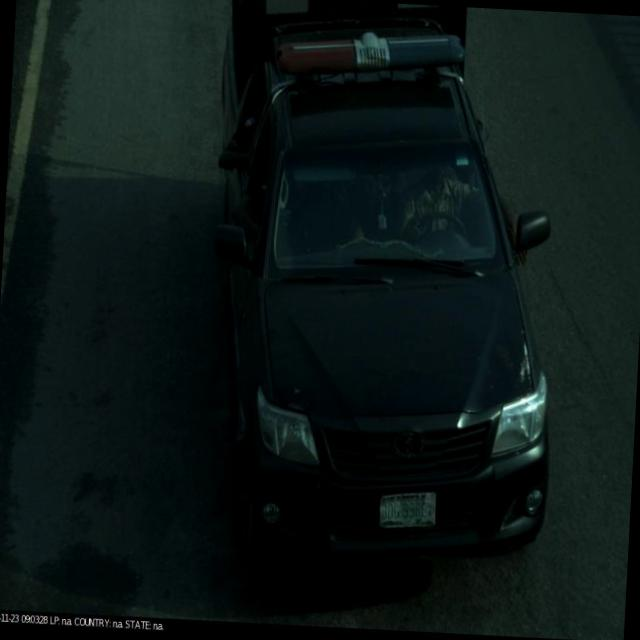person_without_seatbelt: (386, 169, 485, 250)
